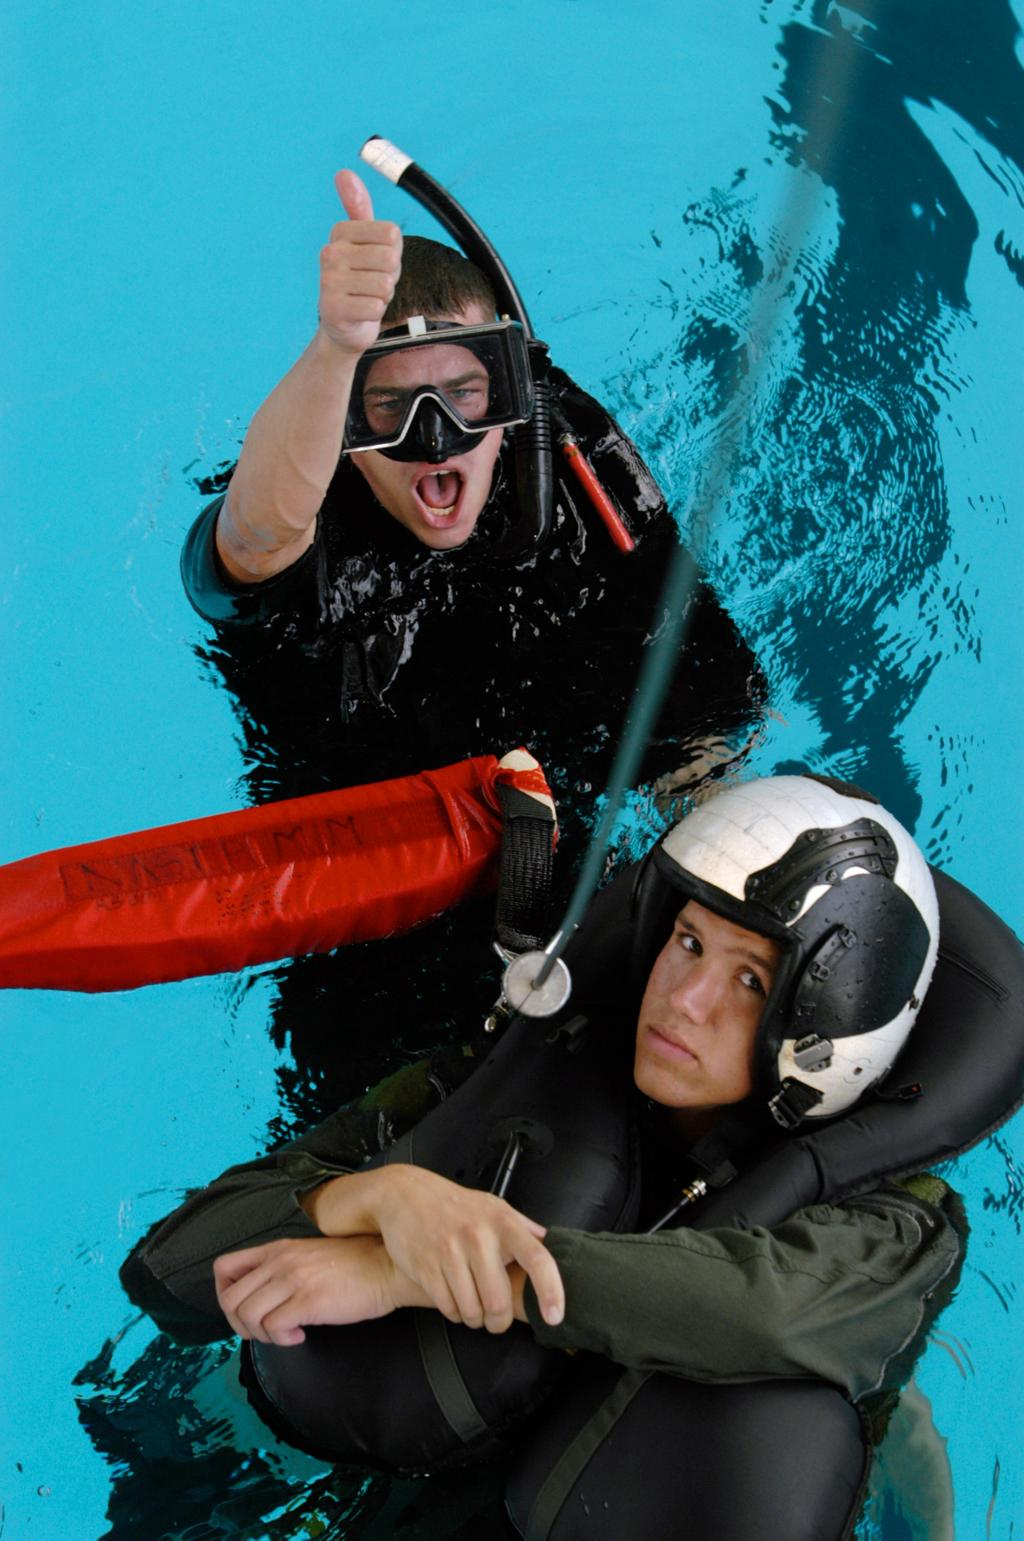face: (638, 907, 819, 1106), (358, 343, 509, 545)
